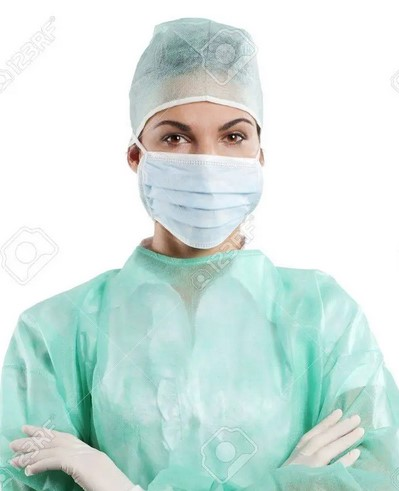with_mask_and_cap: (130, 31, 266, 248)
